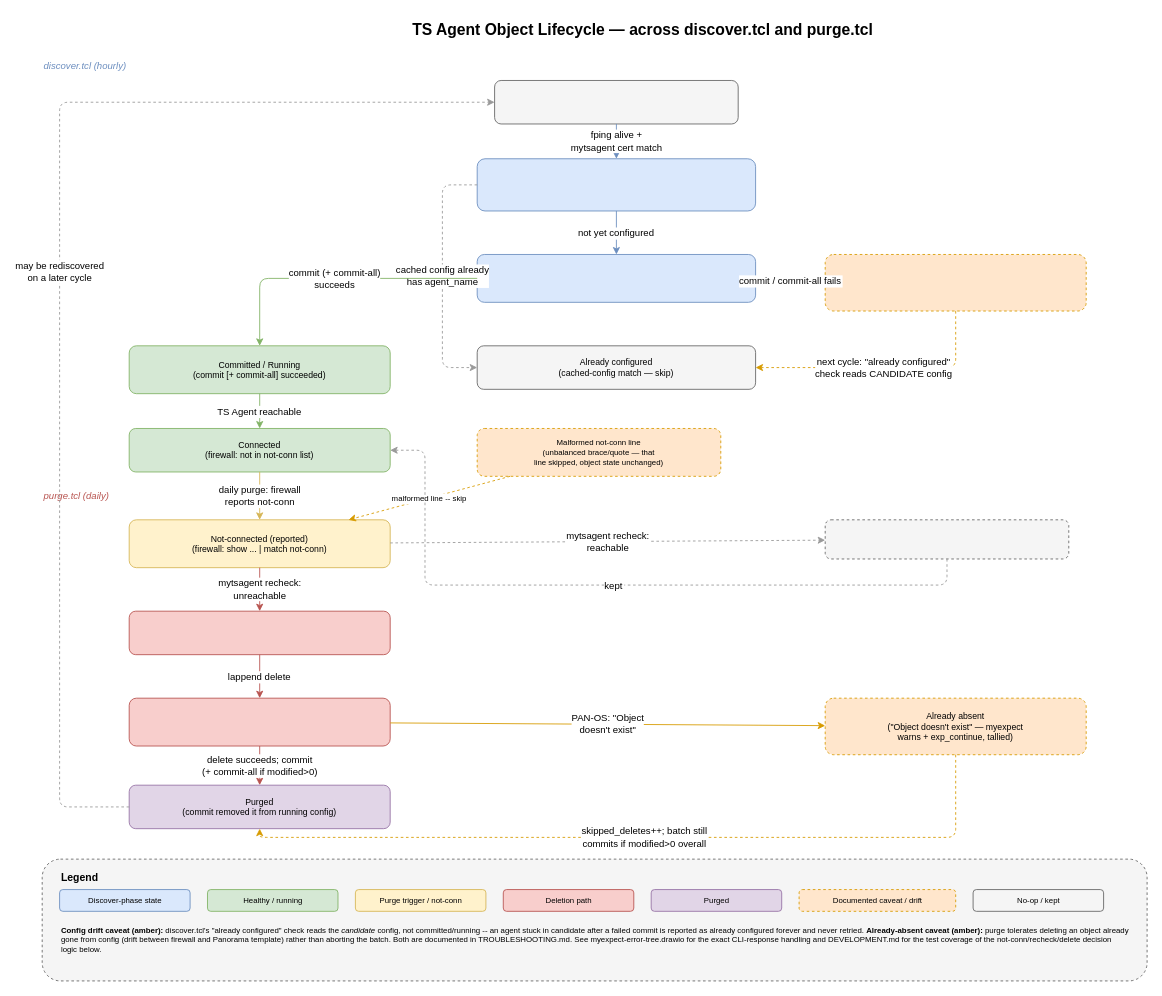
The diagram is 1162 pixels wide and 996 high, and some of its shapes have lost their labels. The shapes that lost their labels are listed below. From the top down, each one's centre as x and y in pixels, then its label:
point (616, 102): Not tracked (no TS Agent object exists)
point (616, 184): Discovered (fping alive + TLS cert matches "Terminal Server Agent")
point (616, 278): Candidate: added (set ts-agent ... — tsagent-modify-*.exp add)
point (955, 282): Stuck in candidate (drift) commit / commit-all fails (e.g. platform capacity)
point (946, 539): Kept — momentary glitch (mytsagent recheck succeeds)
point (259, 632): Confirmed unreachable (mytsagent recheck fails)
point (259, 721): Delete issued (delete ts-agent — tsagent-modify-*.exp delete)
